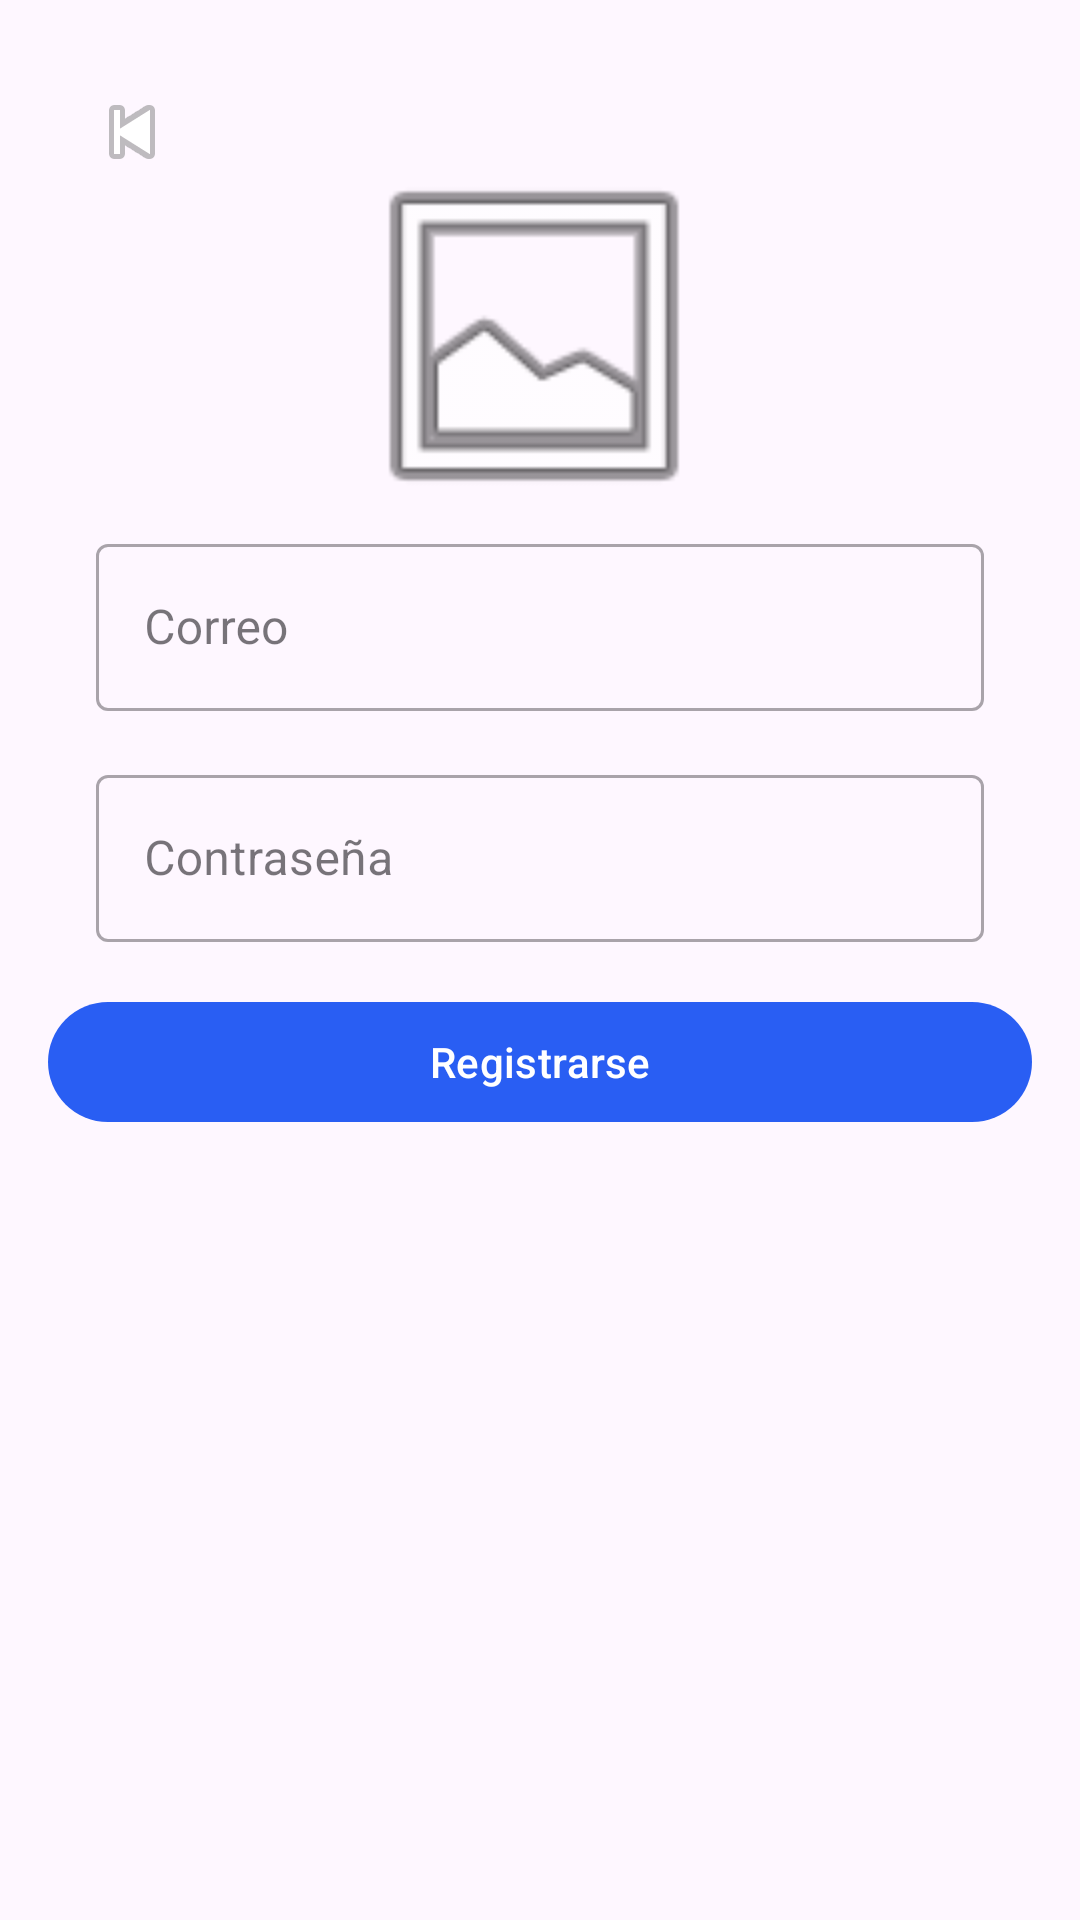

Where icons sit on this 1080×1920 app screen, as (x1, y1, x2, y2):
Regresar: (109, 105, 155, 159)
